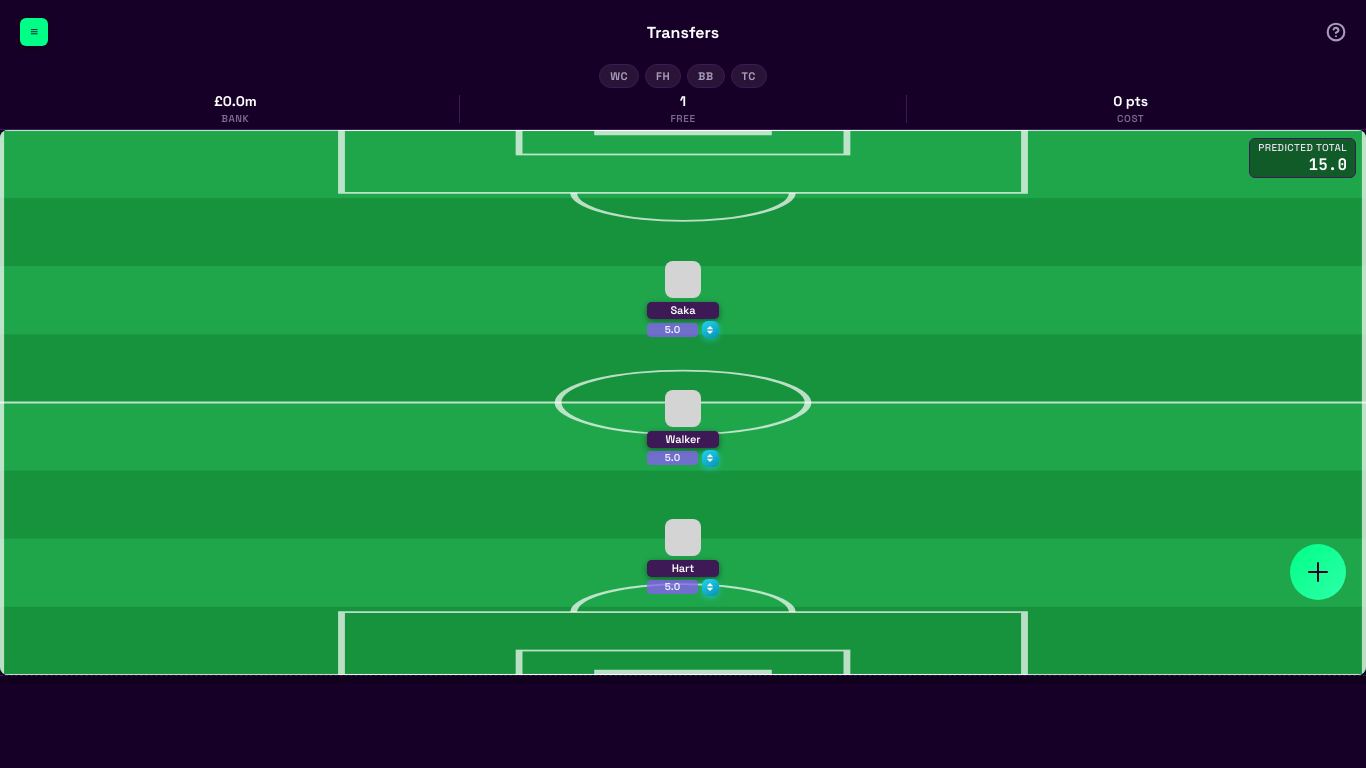
Test: Transfer Position Logic › does NOT show DEF candidates when replacing a MID (CORRECT)
What coordinates should you click on to do the following:
click the button labelled "Saka 5.0"
I would click on:
 (683, 300)
Its box is 550,261 -> 816,338.
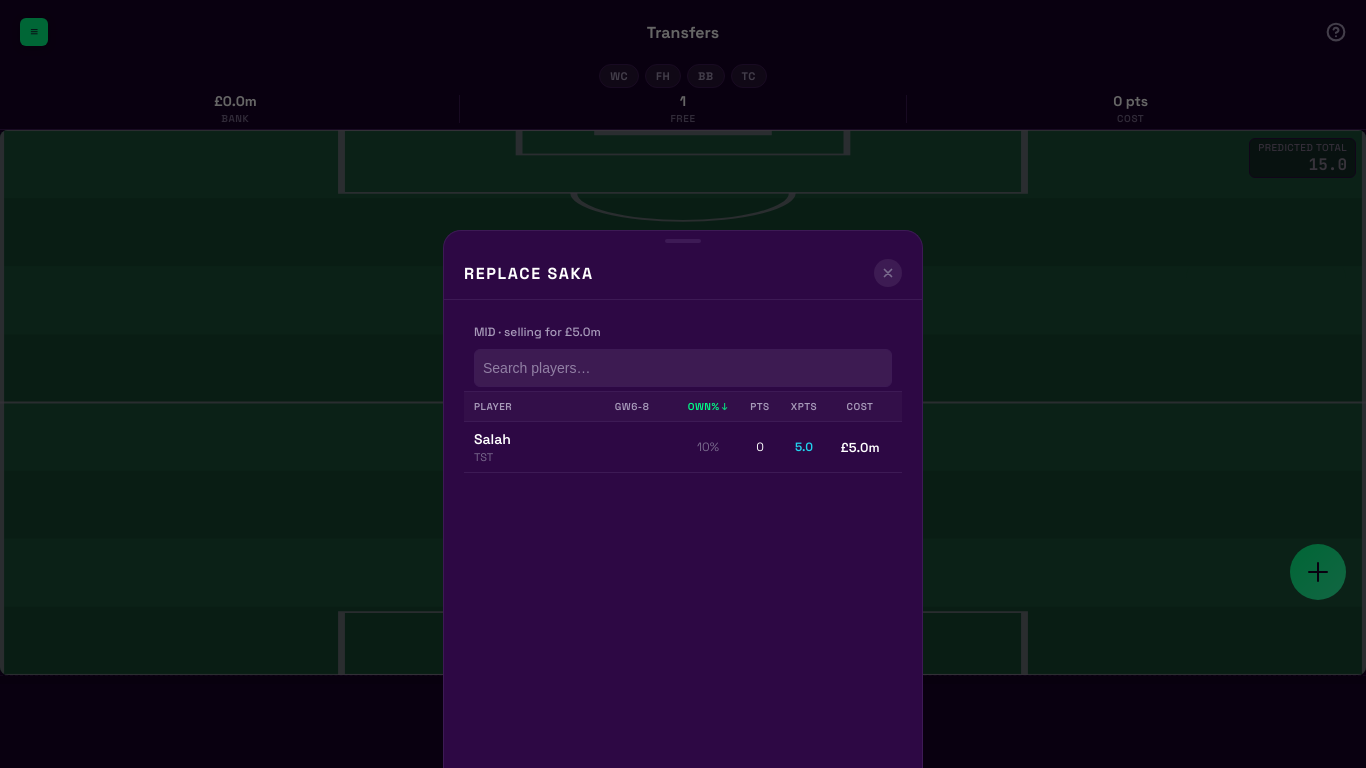
Result: the heading "Replace Saka" is shown at 464,263 -> 594,284
Result: the text "Salah" is shown at 474,430 -> 511,448
